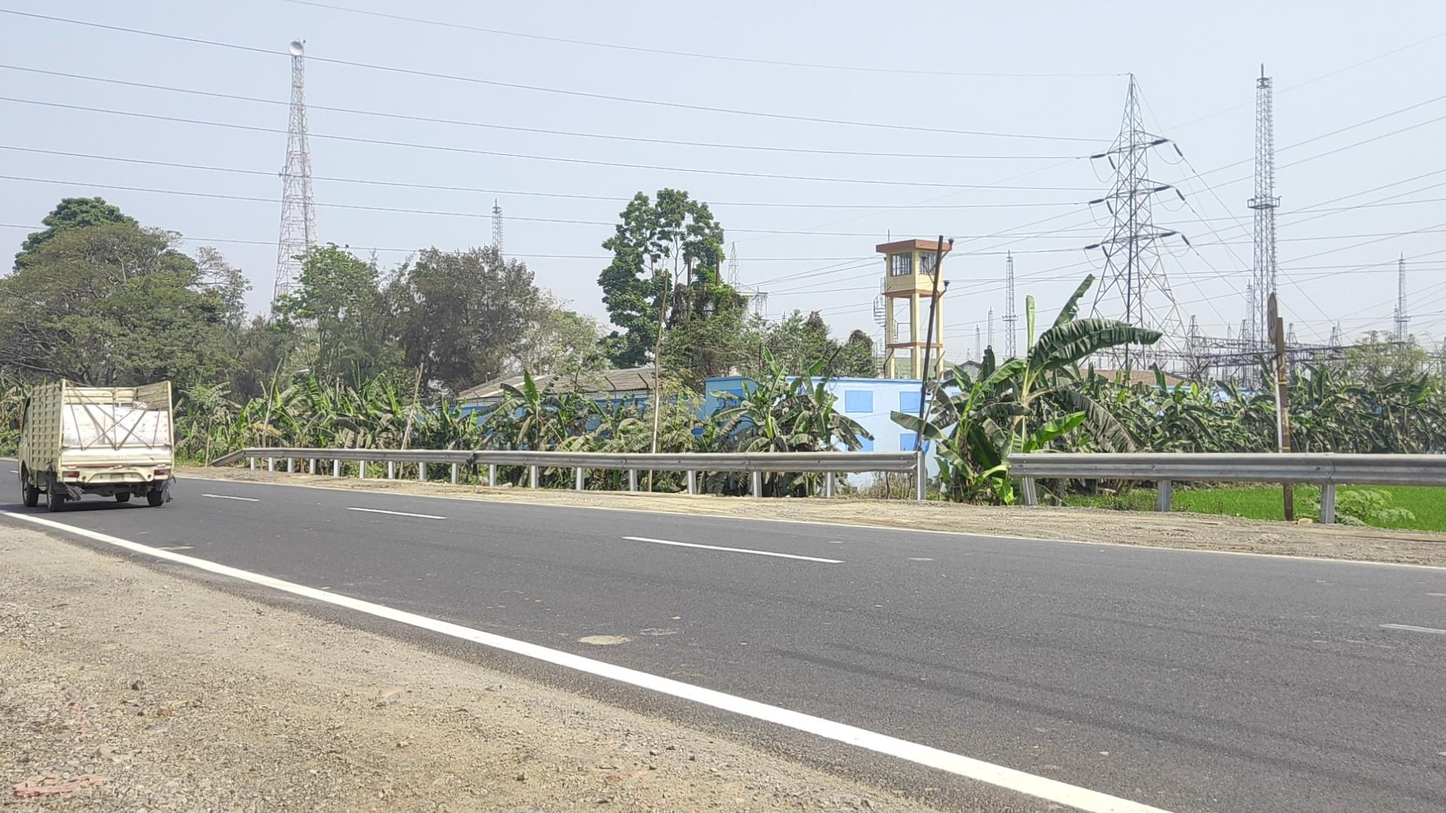van: (9, 378, 175, 513)
